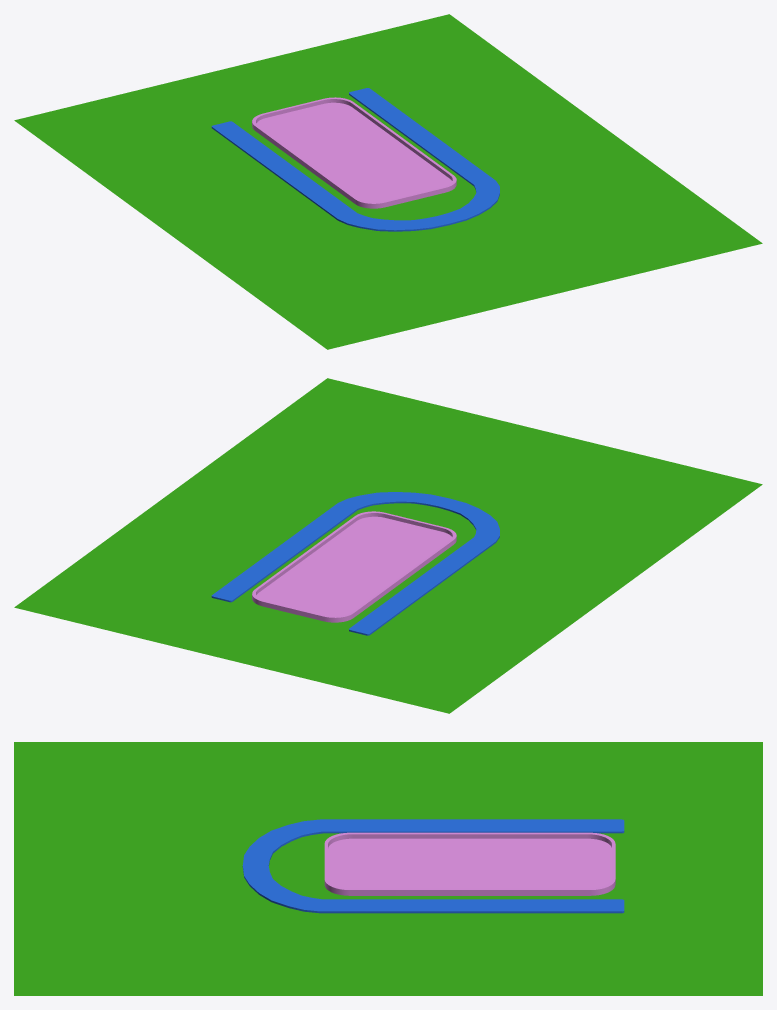
Rendered from Loca_1.fbx.
The picture shows the model from 3 angles, top to bottom: view 1: azimuth 30°, elevation 25°; view 2: azimuth 150°, elevation 25°; view 3: azimuth 270°, elevation 25°; orthographic projection. The views are drawn at different scales.
Parts seen in each view (by area): view 1: Plane, lvl_1_1, Lvl_1_2; view 2: Plane, lvl_1_1, Lvl_1_2; view 3: Plane, lvl_1_1, Lvl_1_2.
Boxes of the visible parts, <box> form: Plane: <box>14,14,762,349</box>; lvl_1_1: <box>252,97,456,208</box>; Lvl_1_2: <box>211,88,499,231</box>; Plane: <box>14,378,762,713</box>; lvl_1_1: <box>252,511,456,622</box>; Lvl_1_2: <box>211,492,499,635</box>; Plane: <box>14,742,762,995</box>; lvl_1_1: <box>324,832,615,895</box>; Lvl_1_2: <box>242,819,624,913</box>.
Size of the model in its own units: 664 by 9.22 by 827.
